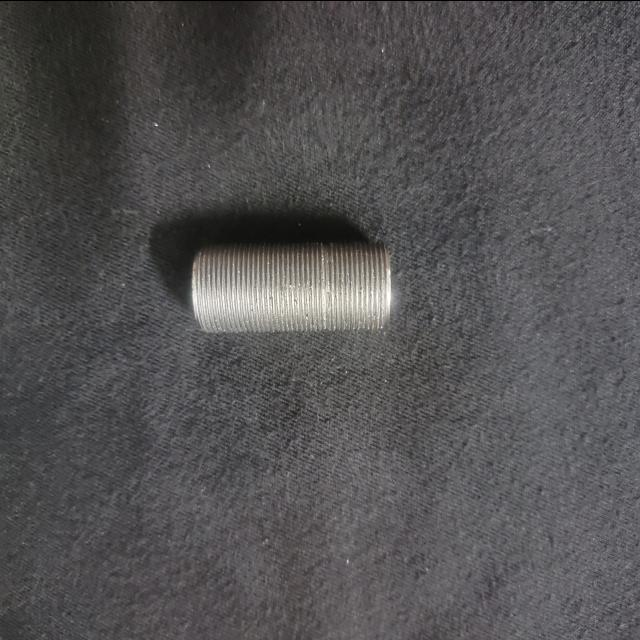Broken: (186, 236, 394, 336)
